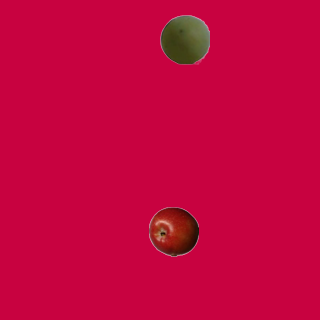Apple Braeburn: (148, 206, 198, 256)
Grape White 4: (159, 14, 209, 64)
